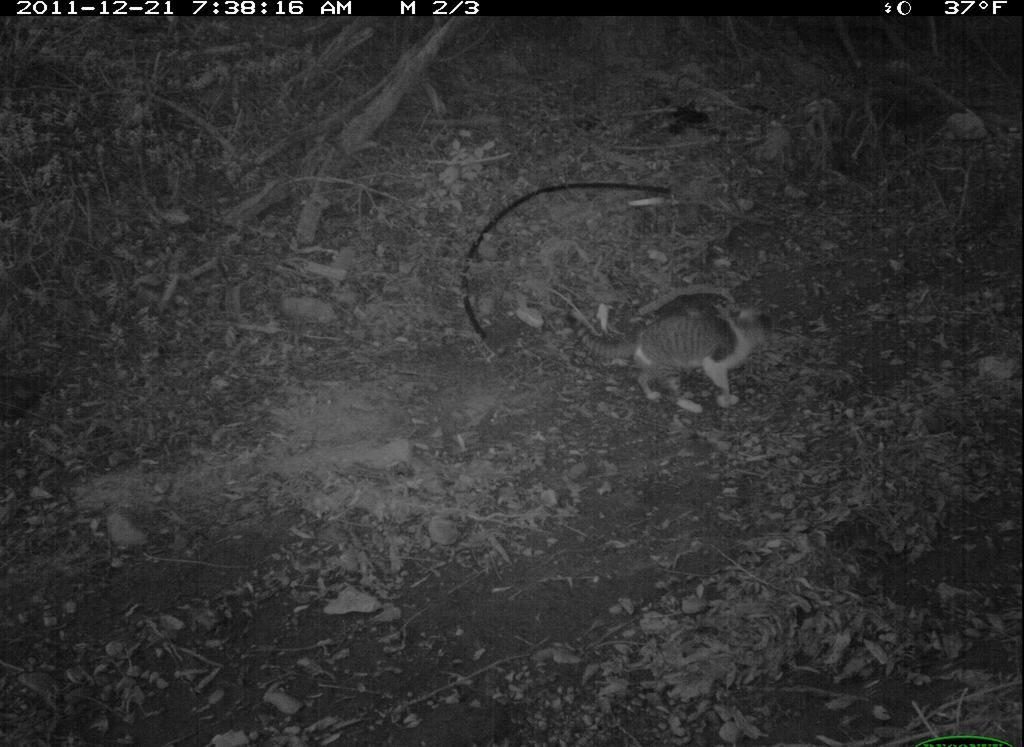cat: (562, 296, 784, 424)
